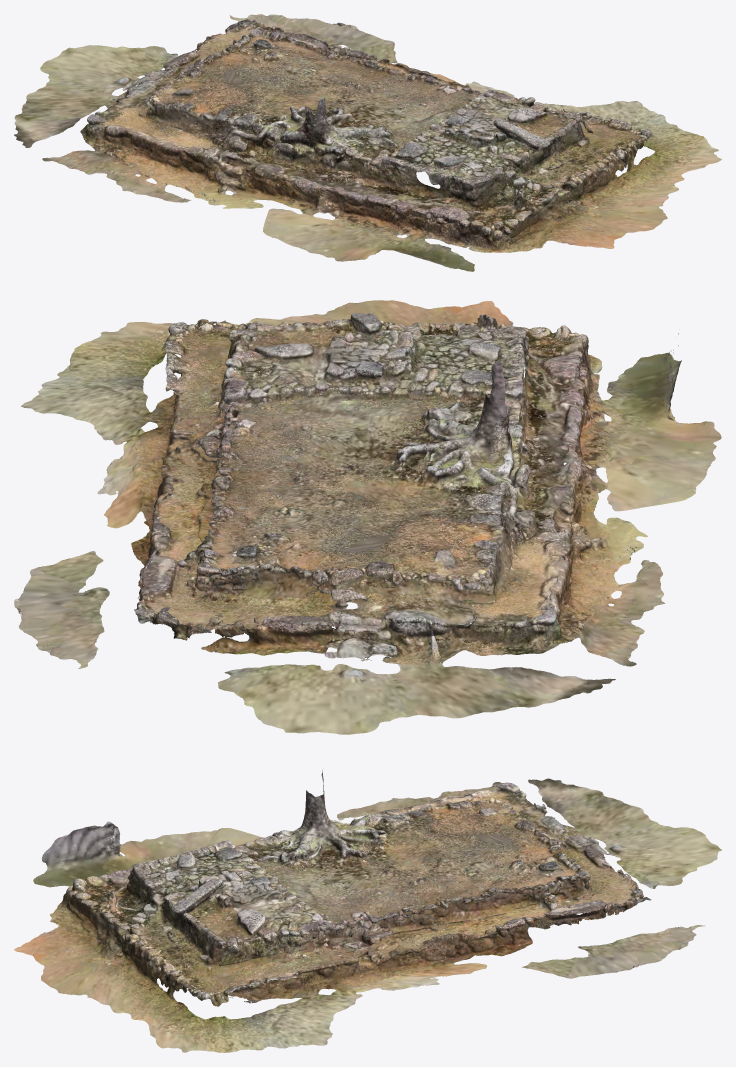
The model's file is pelataran.glb.
3 views of the same model, one above another, from view 1: azimuth 30°, elevation 25°; view 2: azimuth 150°, elevation 25°; view 3: azimuth 270°, elevation 25° (orthographic). The views are drawn at different scales.
Parts seen in each view (by area): view 1: mesh; view 2: mesh; view 3: mesh.
Part boxes in pixels (box(x1,y1,x2,y2)): mesh: box(14, 14, 721, 271); mesh: box(14, 300, 721, 734); mesh: box(14, 770, 721, 1052).
Bounding box in the file's own units: 17.52 × 3.6 × 19.73.
Materials: 1 (1 with a texture image).
